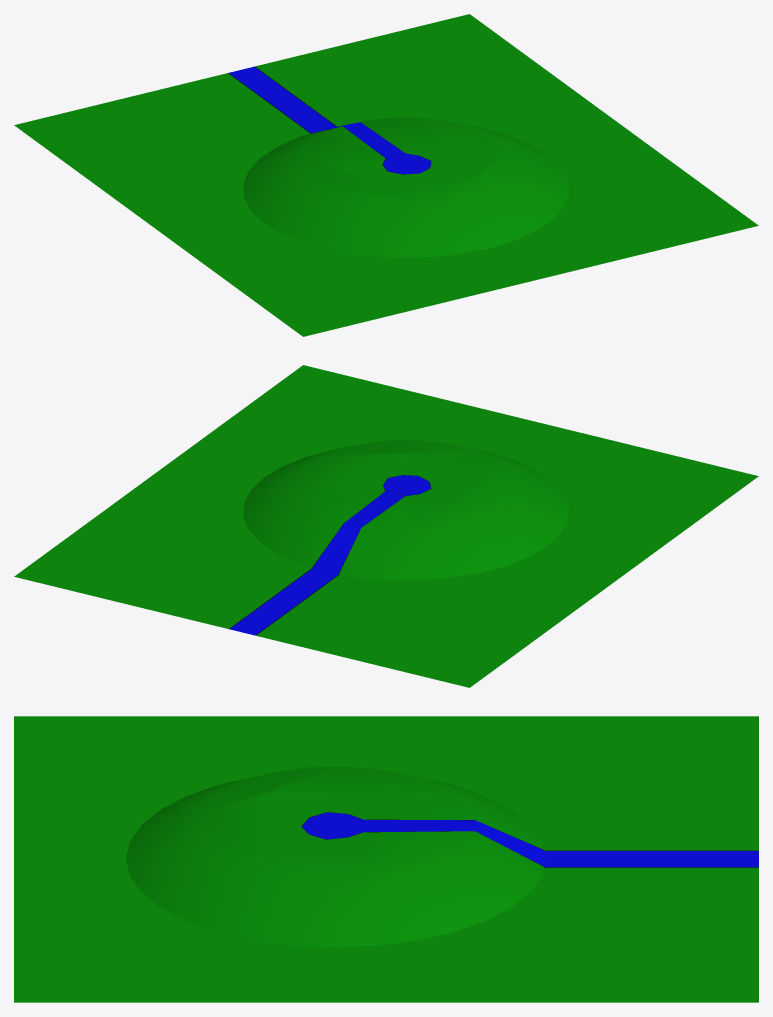
Rendered from GroundV2.fbx.
3 renders of one model, top to bottom at view 1: azimuth 30°, elevation 25°; view 2: azimuth 150°, elevation 25°; view 3: azimuth 270°, elevation 25°, orthographic. The views are drawn at different scales.
Visible parts, largest first — view 1: Plane, Circle; view 2: Plane, Circle; view 3: Plane, Circle.
Part boxes in pixels (box(x1,y1,x2,y2)): Plane: box(14, 14, 758, 336); Circle: box(243, 117, 568, 257); Plane: box(14, 365, 758, 687); Circle: box(243, 440, 568, 580); Plane: box(14, 716, 758, 1002); Circle: box(126, 766, 545, 947).
Bounding box in the file's own units: 17711 × 969 × 19470.
